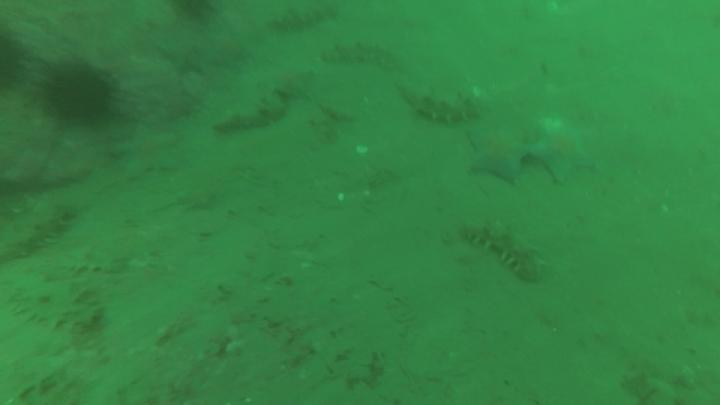echinus: (40, 64, 109, 123)
holothurian: (460, 219, 548, 283), (397, 80, 488, 125), (4, 202, 67, 262), (15, 295, 103, 328), (322, 38, 398, 71), (215, 100, 287, 133), (273, 1, 338, 30)
starfish: (469, 121, 530, 187), (535, 126, 595, 188), (116, 126, 179, 180)
